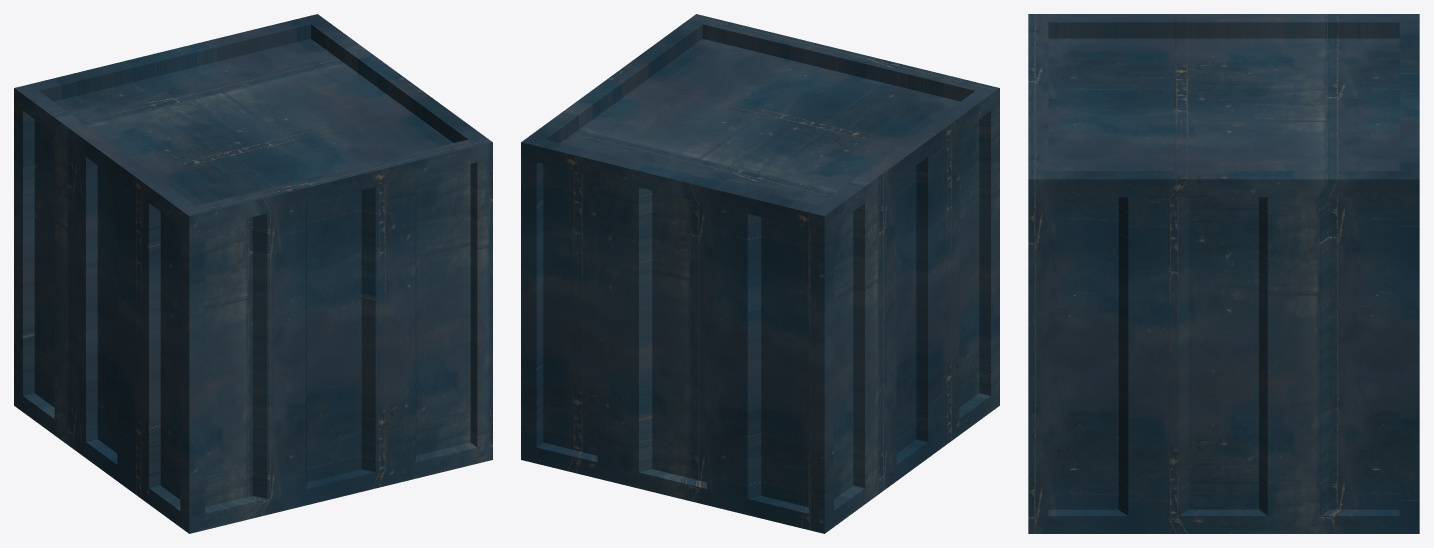
The picture shows the model from 3 angles, left to right: view 1: azimuth 30°, elevation 25°; view 2: azimuth 150°, elevation 25°; view 3: azimuth 270°, elevation 25°; orthographic projection. The views are drawn at different scales.
Visible parts, largest first — view 1: Cube; view 2: Cube; view 3: Cube.
Boxes of the visible parts, x1,y1,x2,y2 form: Cube: (14,14,492,533); Cube: (521,14,999,533); Cube: (1028,14,1419,533).
Size of the model in its own units: 2 by 2 by 2.
1 material, 1 textured.
